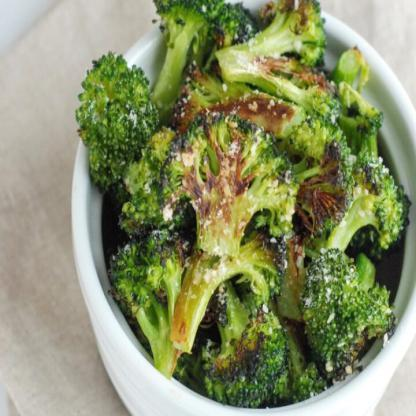broccoli: (73, 0, 415, 409)
